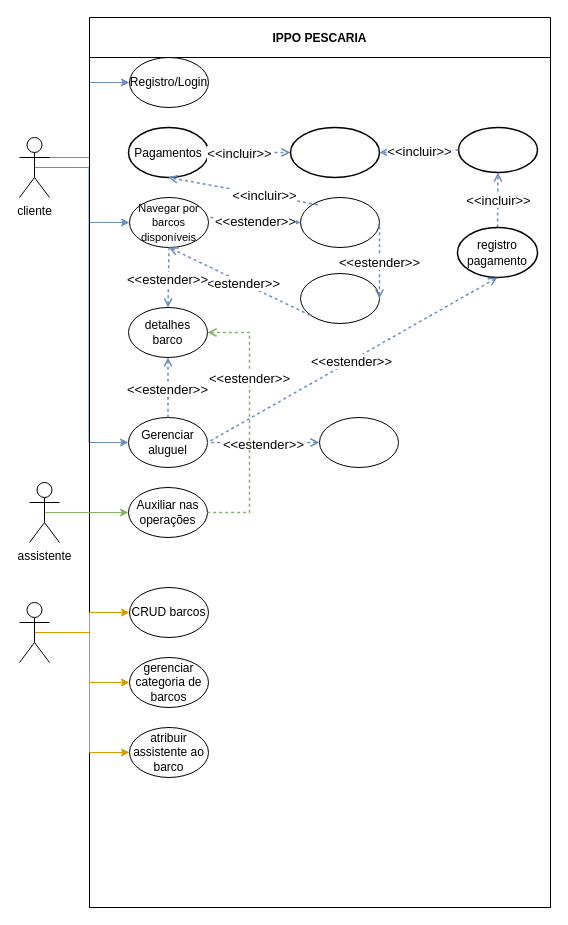
The diagram is 568 pixels wide and 925 high, and some of its shapes have lost their labels. Each missing label, with the centre of its shape:
admin: [34,632]
Alugar barco: [340,222]
cancelar aluguel: [358,442]
Fazer Pagamento: [497,149]
Filtrar barcos por categoria: [340,298]
Verificar Saldo Disponível: [334,152]
